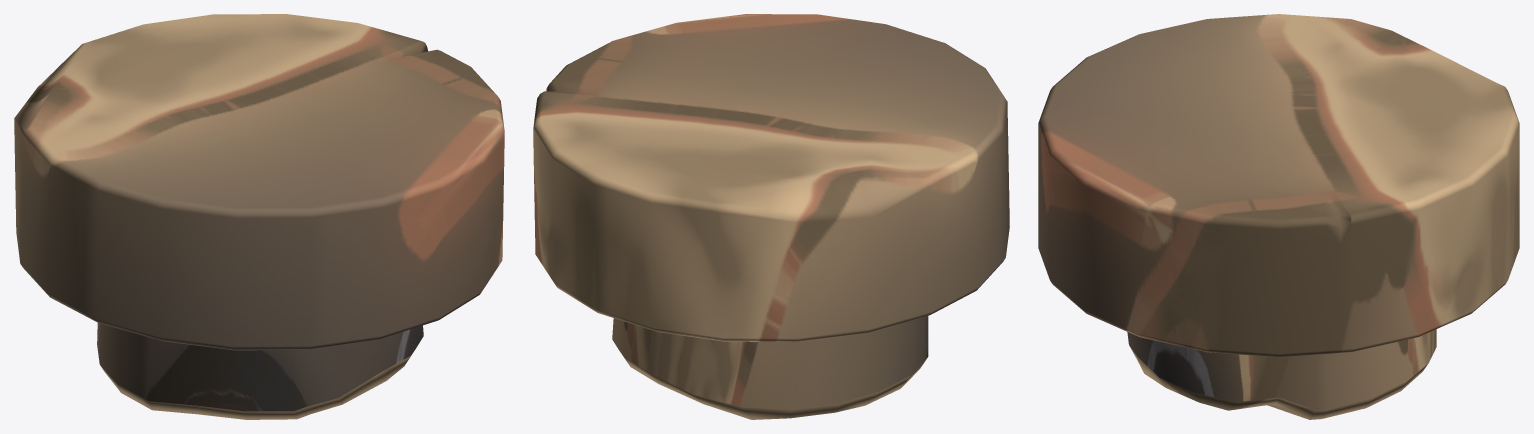
Rendered from SM_InkWell_Cap.fbx.
3 views of the same model, side by side, from view 1: azimuth 30°, elevation 25°; view 2: azimuth 150°, elevation 25°; view 3: azimuth 270°, elevation 25° (orthographic). The views are drawn at different scales.
Visible parts, largest first — view 1: SM_InkWell_Cap; view 2: SM_InkWell_Cap; view 3: SM_InkWell_Cap.
Part boxes in pixels (x1,y1,x2,y2): SM_InkWell_Cap: [14, 14, 504, 419]; SM_InkWell_Cap: [533, 14, 1009, 419]; SM_InkWell_Cap: [1038, 14, 1519, 419].
Size of the model in its own units: 0.1513 by 0.0895 by 0.1505.
